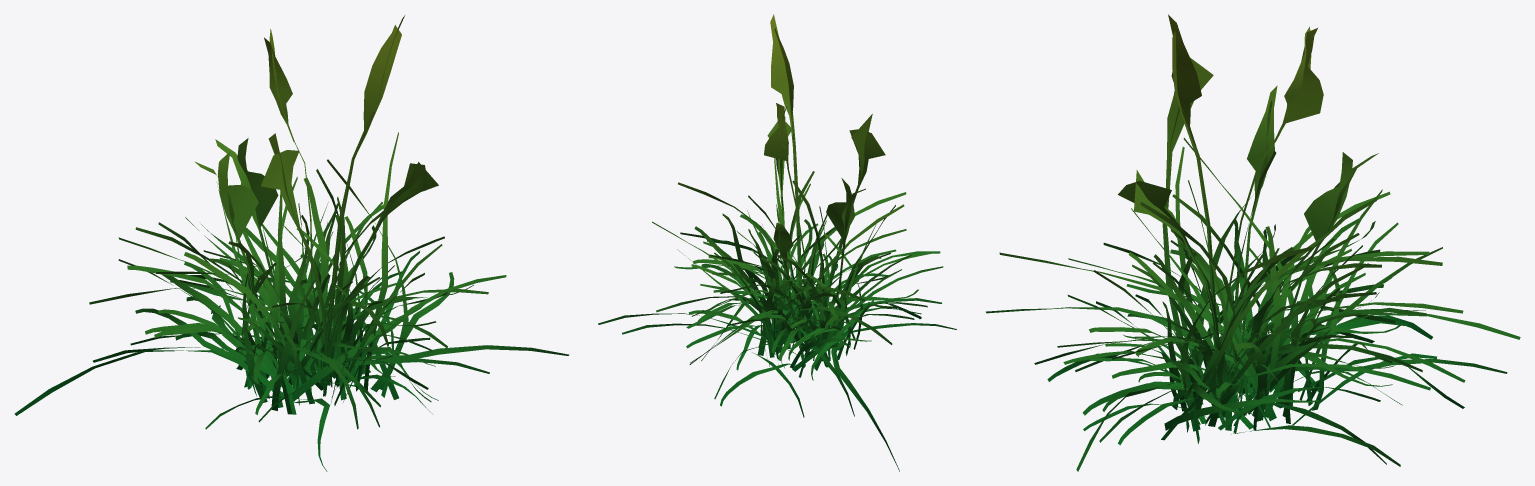
The model's file is grass_medium_01_3.glb.
3 views of the same model, side by side, from view 1: azimuth 30°, elevation 25°; view 2: azimuth 150°, elevation 25°; view 3: azimuth 270°, elevation 25° (orthographic). The views are drawn at different scales.
Visible parts, largest first — view 1: grass_medium_01_mid_a_LOD0; view 2: grass_medium_01_mid_a_LOD0; view 3: grass_medium_01_mid_a_LOD0.
Part boxes in pixels (x1=…): grass_medium_01_mid_a_LOD0: x1=14, y1=15, x2=568, y2=471; grass_medium_01_mid_a_LOD0: x1=598, y1=14, x2=956, y2=471; grass_medium_01_mid_a_LOD0: x1=985, y1=14, x2=1520, y2=471.
Bounding box in the file's own units: 0.2156 × 0.2177 × 0.2214.
